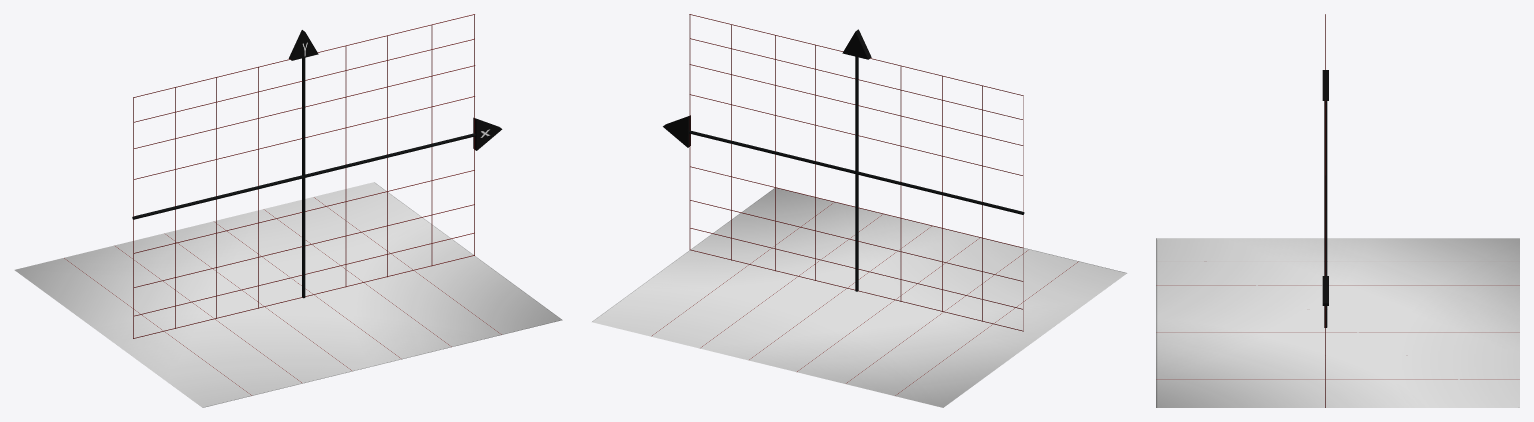
The picture shows the model from 3 angles, left to right: view 1: azimuth 30°, elevation 25°; view 2: azimuth 150°, elevation 25°; view 3: azimuth 270°, elevation 25°; orthographic projection. The views are drawn at different scales.
Parts seen in each view (by area): view 1: y_raiz_x_demo:Y__X_B_²:parabola:plane:pPlane1, y_raiz_x_demo:Y__X_B_²:parabola:pCylinder36, y_raiz_x_demo:Y__X_B_²:parabola:pCylinder37, y_raiz_x_demo:Y__X_B_²:parabola:nueva_flecha_x:polySurface1, y_raiz_x_demo:Y__X_B_²:parabola:Nueva_flecha_y:polySurface1; view 2: y_raiz_x_demo:Y__X_B_²:parabola:plane:pPlane1, y_raiz_x_demo:Y__X_B_²:parabola:pCylinder36, y_raiz_x_demo:Y__X_B_²:parabola:pCylinder37, y_raiz_x_demo:Y__X_B_²:parabola:nueva_flecha_x:polySurface1; view 3: y_raiz_x_demo:Y__X_B_²:parabola:plane:pPlane1, y_raiz_x_demo:Y__X_B_²:parabola:pCylinder37.
Part boxes in pixels (<box>): y_raiz_x_demo:Y__X_B_²:parabola:plane:pPlane1: <box>14,182,562,407</box>; y_raiz_x_demo:Y__X_B_²:parabola:pCylinder36: <box>132,133,475,219</box>; y_raiz_x_demo:Y__X_B_²:parabola:pCylinder37: <box>302,58,305,298</box>; y_raiz_x_demo:Y__X_B_²:parabola:nueva_flecha_x:polySurface1: <box>473,117,502,150</box>; y_raiz_x_demo:Y__X_B_²:parabola:Nueva_flecha_y:polySurface1: <box>288,30,318,60</box>; y_raiz_x_demo:Y__X_B_²:parabola:plane:pPlane1: <box>592,188,1126,407</box>; y_raiz_x_demo:Y__X_B_²:parabola:pCylinder36: <box>689,130,1024,214</box>; y_raiz_x_demo:Y__X_B_²:parabola:pCylinder37: <box>855,56,858,291</box>; y_raiz_x_demo:Y__X_B_²:parabola:nueva_flecha_x:polySurface1: <box>663,115,690,147</box>; y_raiz_x_demo:Y__X_B_²:parabola:plane:pPlane1: <box>1156,238,1519,407</box>; y_raiz_x_demo:Y__X_B_²:parabola:pCylinder37: <box>1324,101,1327,327</box>.
Bounding box in the file's own units: 30.2 × 19.93 × 25.54.
